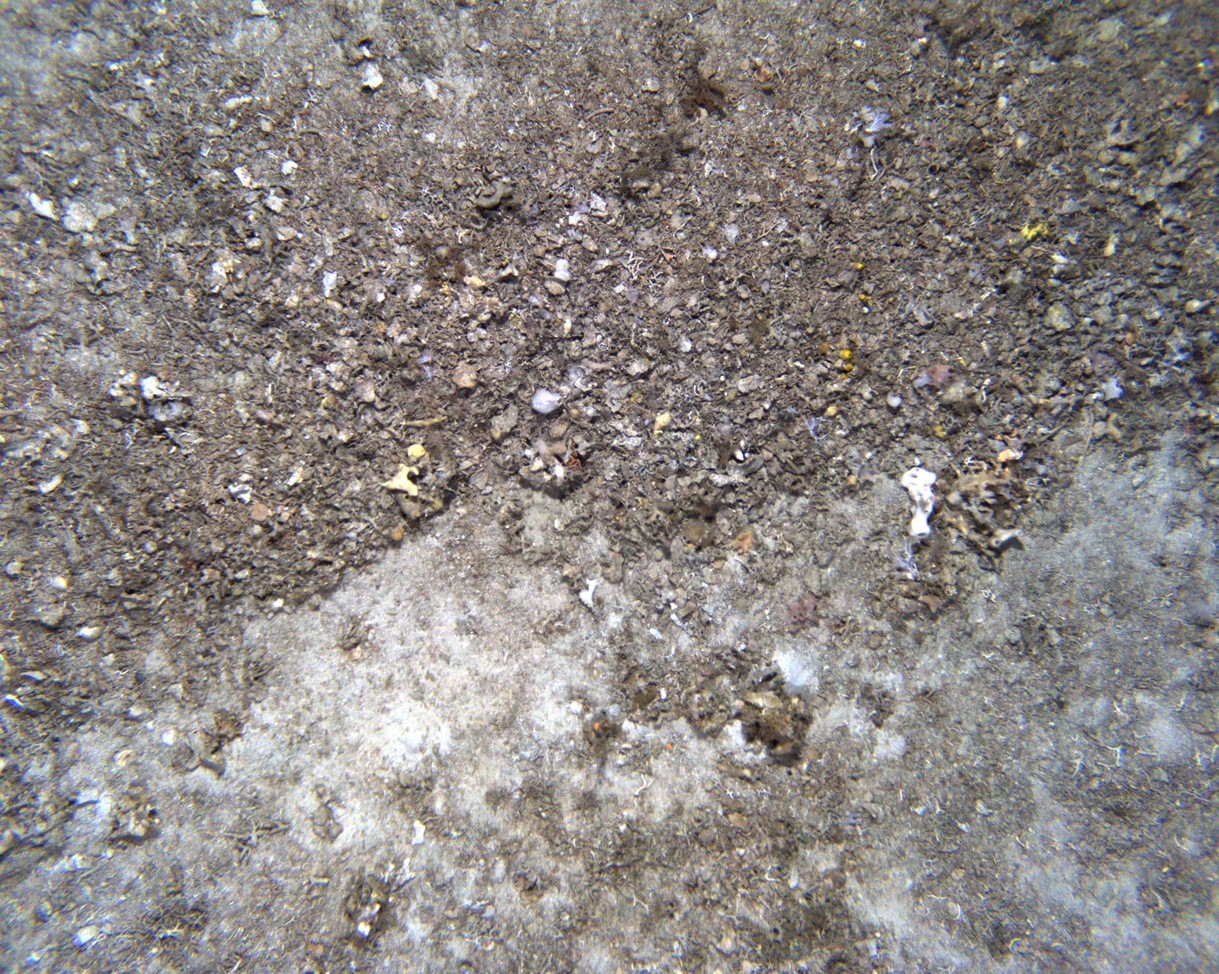Brachionichthyidae: (253, 407, 312, 439)
